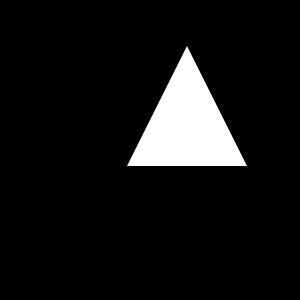triangle: (127, 46, 247, 166)
